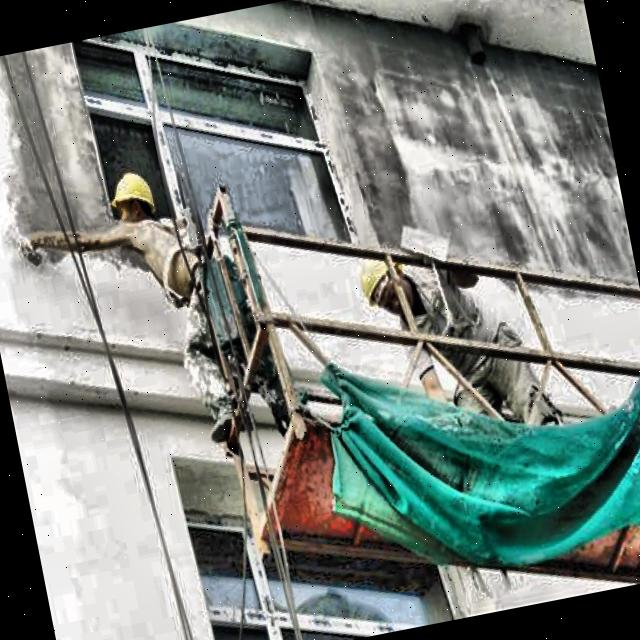helmet: (354, 247, 422, 327), (104, 166, 164, 244)
